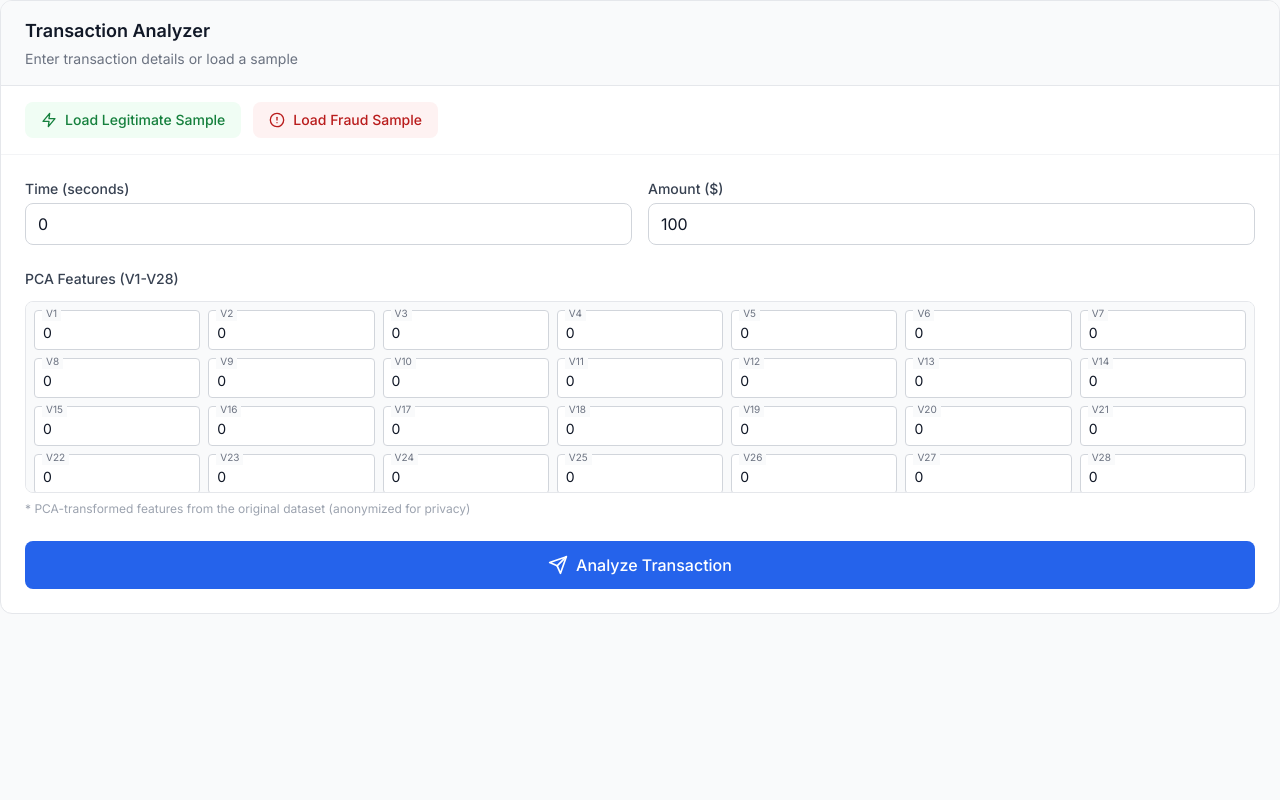
Test case: TransactionForm Component › Form Submission › displays error message on prediction failure
What coordinates should you click on to do the following:
click the button "Analyze Transaction"
I would click on:
 (640, 565)
Its box is [25,541,1255,589].
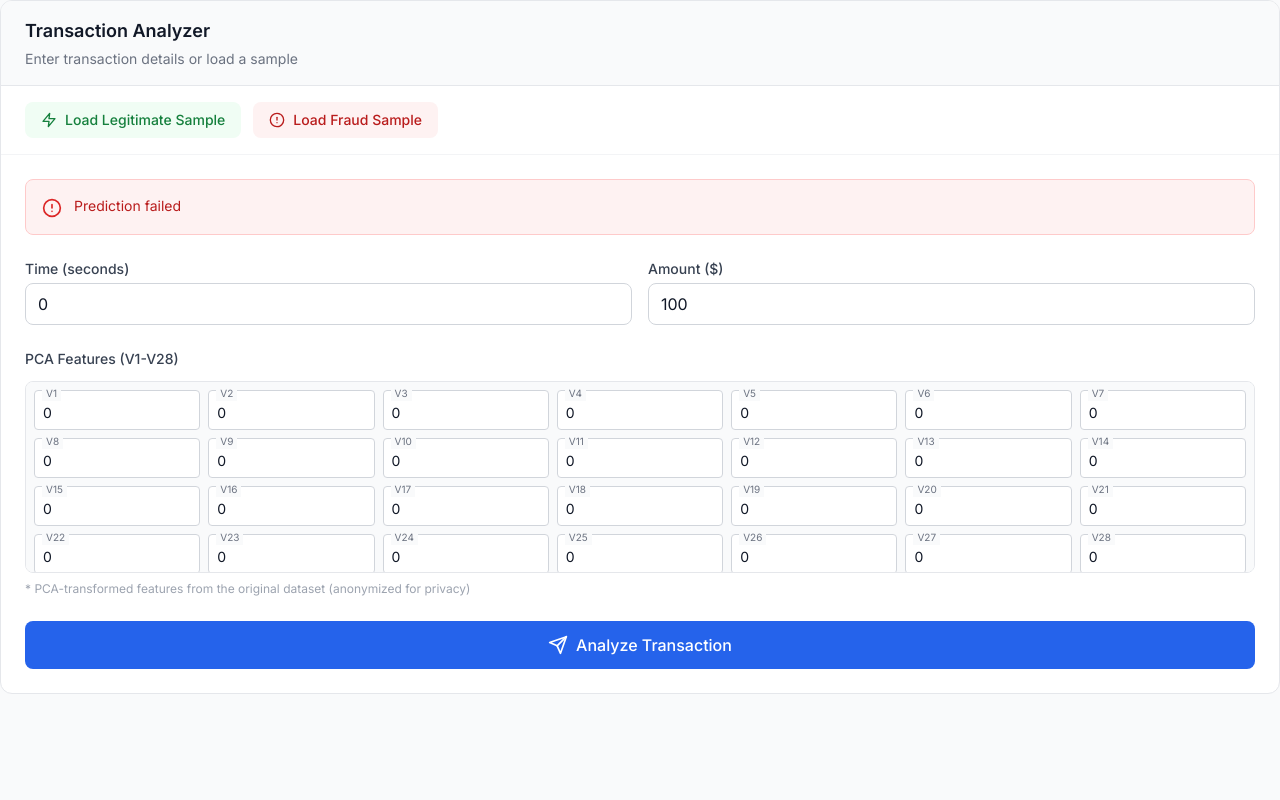
Now the text "Prediction failed" is shown, box [74,196,181,216]
